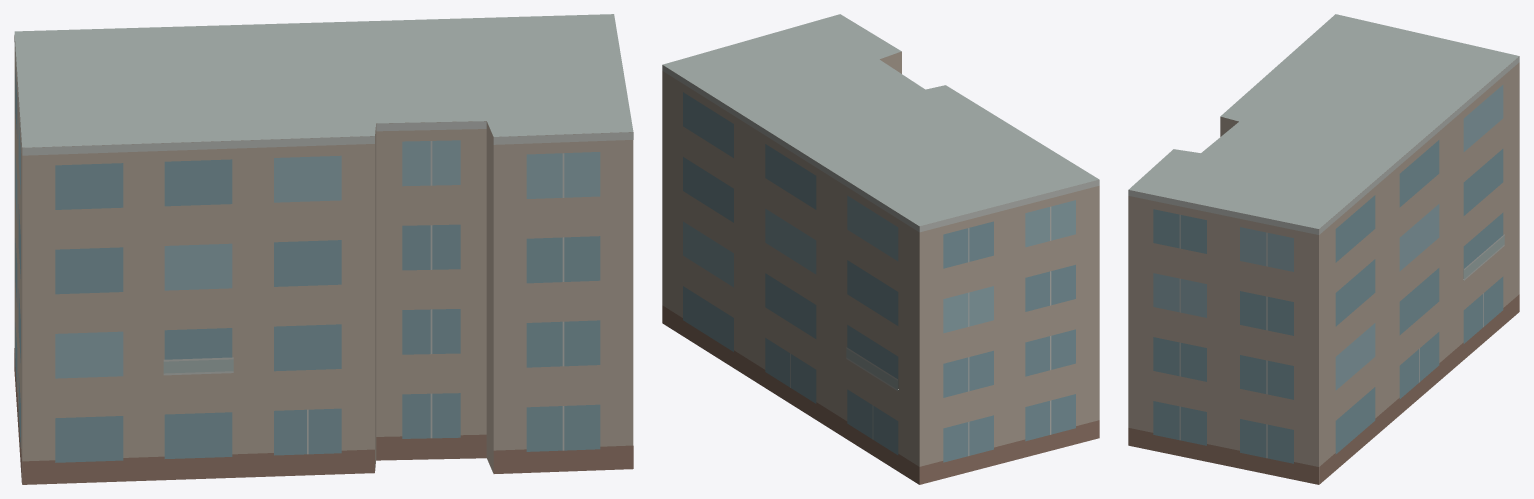
The model's file is survey-upis-32882529.glb.
3 renders of one model, left to right at view 1: azimuth 30°, elevation 25°; view 2: azimuth 150°, elevation 25°; view 3: azimuth 270°, elevation 25°, orthographic. The views are drawn at different scales.
Visible parts, largest first — view 1: survey-upis-32882529.tmp; view 2: survey-upis-32882529.tmp; view 3: survey-upis-32882529.tmp.
Boxes of the visible parts, x1,y1,x2,y2 form: survey-upis-32882529.tmp: [14, 14, 633, 484]; survey-upis-32882529.tmp: [662, 14, 1099, 484]; survey-upis-32882529.tmp: [1128, 14, 1519, 484].
Size of the model in its own units: 18.77 by 10.4 by 14.43.
